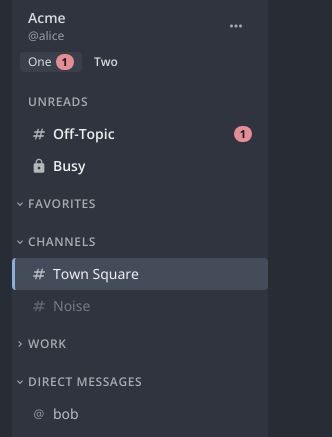
Test: server menu: switching the active channel closes it
The width and height of the screenshot is (332, 437).
Click the button named "Server menu".
click(236, 26)  # box [220,10,252,42]
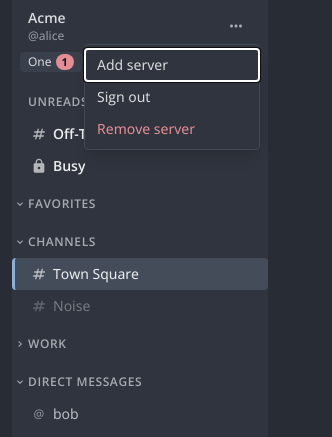
Expected: the menu is shown, [84,44,260,150]
